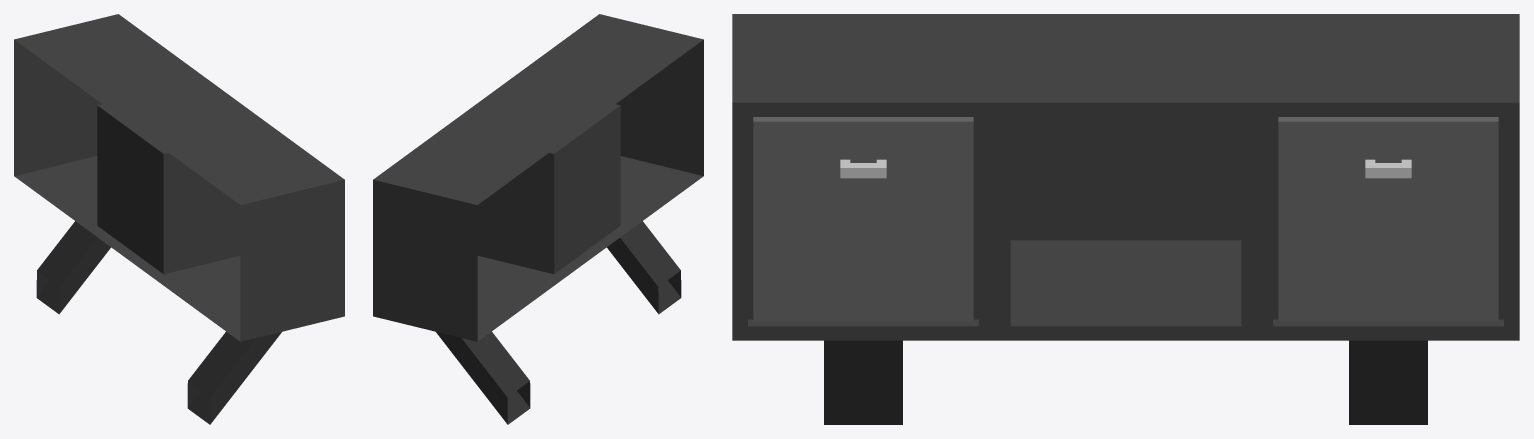
The model's file is Wall_Cabinet.fbx.
The picture shows the model from 3 angles, left to right: view 1: azimuth 30°, elevation 25°; view 2: azimuth 150°, elevation 25°; view 3: azimuth 270°, elevation 25°; orthographic projection. The views are drawn at different scales.
Visible parts, largest first — view 1: Wall_Cabinet; view 2: Wall_Cabinet; view 3: Wall_Cabinet.
Boxes of the visible parts, x1=… form: Wall_Cabinet: x1=14, y1=14, x2=344, y2=424; Wall_Cabinet: x1=373, y1=14, x2=703, y2=424; Wall_Cabinet: x1=732, y1=14, x2=1519, y2=424.
Size of the model in its own units: 45.16 by 87.08 by 150.
Materials: 1 (1 with a texture image).
